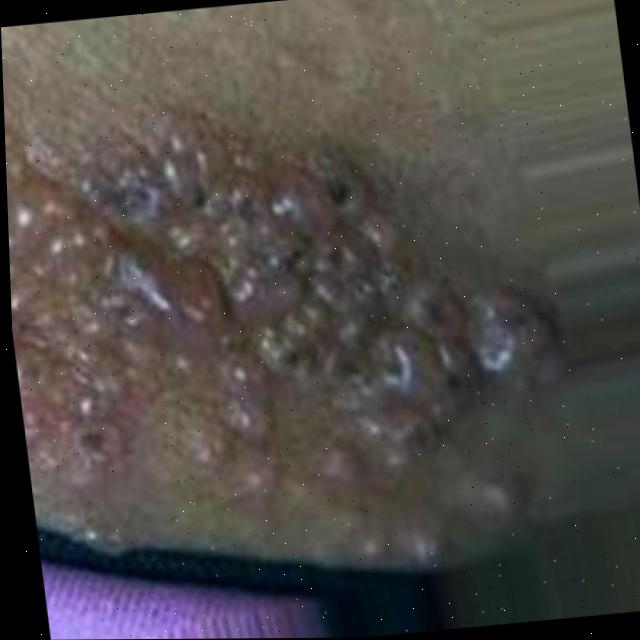Shingles: (4, 100, 579, 595)
